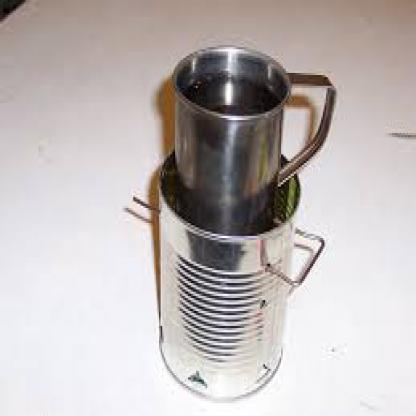METAL: (156, 144, 323, 394), (169, 45, 334, 234)
